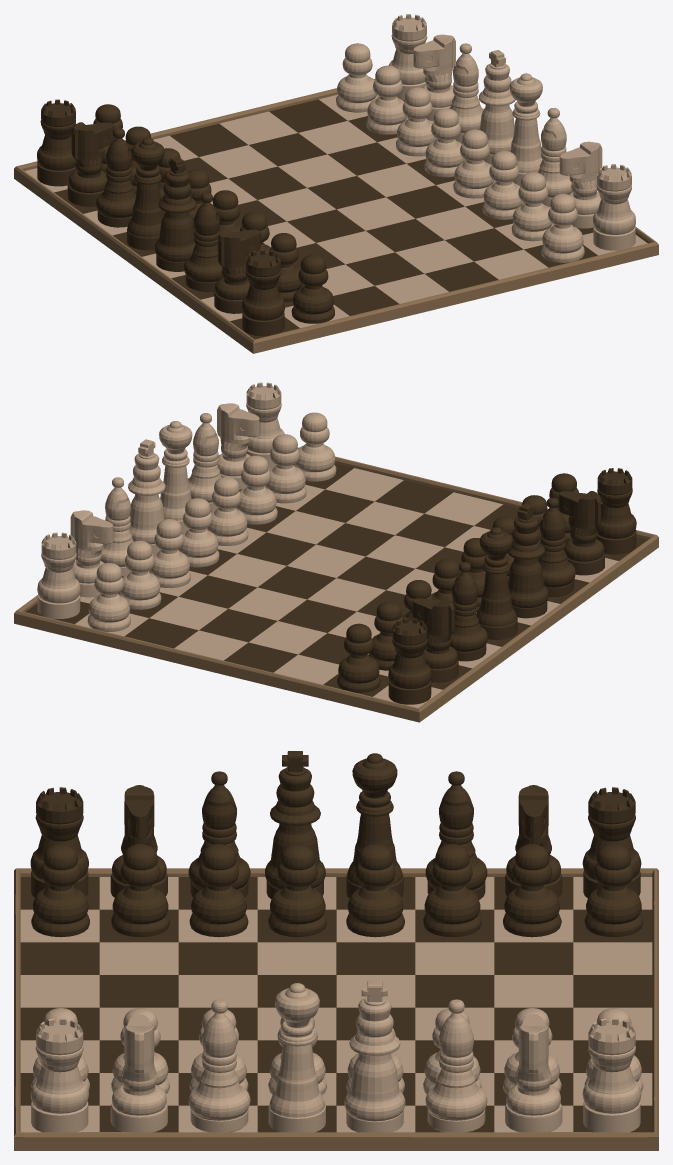
Rendered from ChessSet&Board.fbx.
3 renders of one model, top to bottom at view 1: azimuth 30°, elevation 25°; view 2: azimuth 150°, elevation 25°; view 3: azimuth 270°, elevation 25°, orthographic. The views are drawn at different scales.
Visible parts, largest first — view 1: pCube1, pCylinder23, pCylinder28, pCylinder26, pCylinder25, pCylinder31, pCylinder27, pCylinder22, pCylinder30, pCylinder29, pCylinder19, pCylinder20 (+20 smaller); view 2: pCube1, pCylinder23, pCylinder28, pCylinder27, pCylinder24, pCylinder30, pCylinder26, pCylinder22, pCylinder31, pCylinder29, pCylinder19, pCylinder32 (+19 smaller); view 3: pCube1, pCylinder22, pCylinder29, pCylinder24, pCylinder25, pCylinder17, pCylinder18, pCylinder33, pCylinder32, pCylinder23, pCylinder28, pCylinder10 (+20 smaller).
Boxes of the visible parts, <box> form: pCube1: <box>14,79,658,353</box>; pCylinder23: <box>155,156,196,271</box>; pCylinder28: <box>127,137,164,250</box>; pCylinder26: <box>242,249,284,336</box>; pCylinder25: <box>593,164,635,250</box>; pCylinder31: <box>67,122,114,206</box>; pCylinder27: <box>37,99,76,186</box>; pCylinder22: <box>478,50,515,164</box>; pCylinder30: <box>214,229,260,313</box>; pCylinder29: <box>509,73,542,185</box>; pCylinder19: <box>96,128,136,227</box>; pCylinder20: <box>184,192,222,291</box>; pCube1: <box>14,447,658,722</box>; pCylinder23: <box>508,503,548,618</box>; pCylinder28: <box>476,527,517,639</box>; pCylinder27: <box>388,618,431,704</box>; pCylinder24: <box>37,532,80,618</box>; pCylinder30: <box>558,491,604,575</box>; pCylinder26: <box>596,468,636,554</box>; pCylinder22: <box>128,439,165,553</box>; pCylinder31: <box>412,598,458,682</box>; pCylinder29: <box>159,421,192,532</box>; pCylinder19: <box>450,562,487,661</box>; pCylinder32: <box>70,510,113,597</box>; pCube1: <box>14,868,658,1150</box>; pCylinder22: <box>344,981,405,1132</box>; pCylinder29: <box>268,983,325,1132</box>; pCylinder24: <box>582,1018,641,1132</box>; pCylinder25: <box>30,1018,88,1132</box>; pCylinder17: <box>425,999,487,1132</box>; pCylinder18: <box>188,999,250,1132</box>; pCylinder33: <box>110,1014,167,1132</box>; pCylinder32: <box>505,1014,562,1132</box>; pCylinder23: <box>265,751,325,898</box>; pCylinder28: <box>346,753,403,898</box>; pCylinder10: <box>111,844,169,937</box>.
Bounding box in the file's own units: 21.96 × 5.76 × 22.45.
